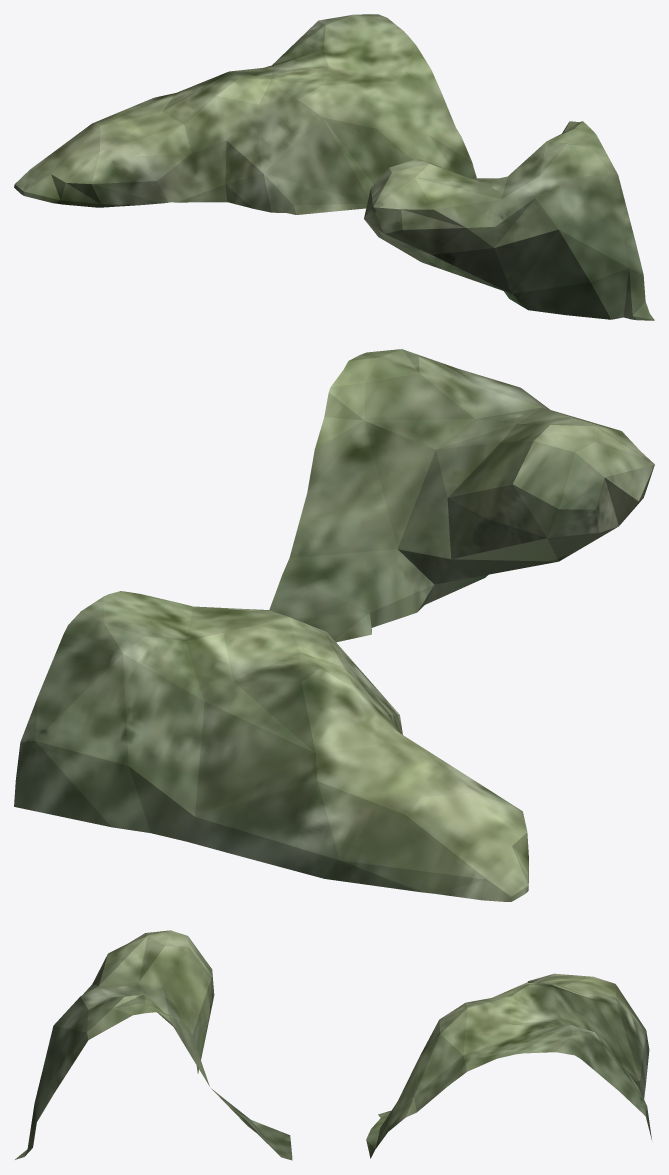
3 renders of one model, top to bottom at view 1: azimuth 30°, elevation 25°; view 2: azimuth 150°, elevation 25°; view 3: azimuth 270°, elevation 25°, orthographic. The views are drawn at different scales.
Size of the model in its own units: 1.47 by 0.6002 by 2.32.
Materials: 1 (1 with a texture image).
